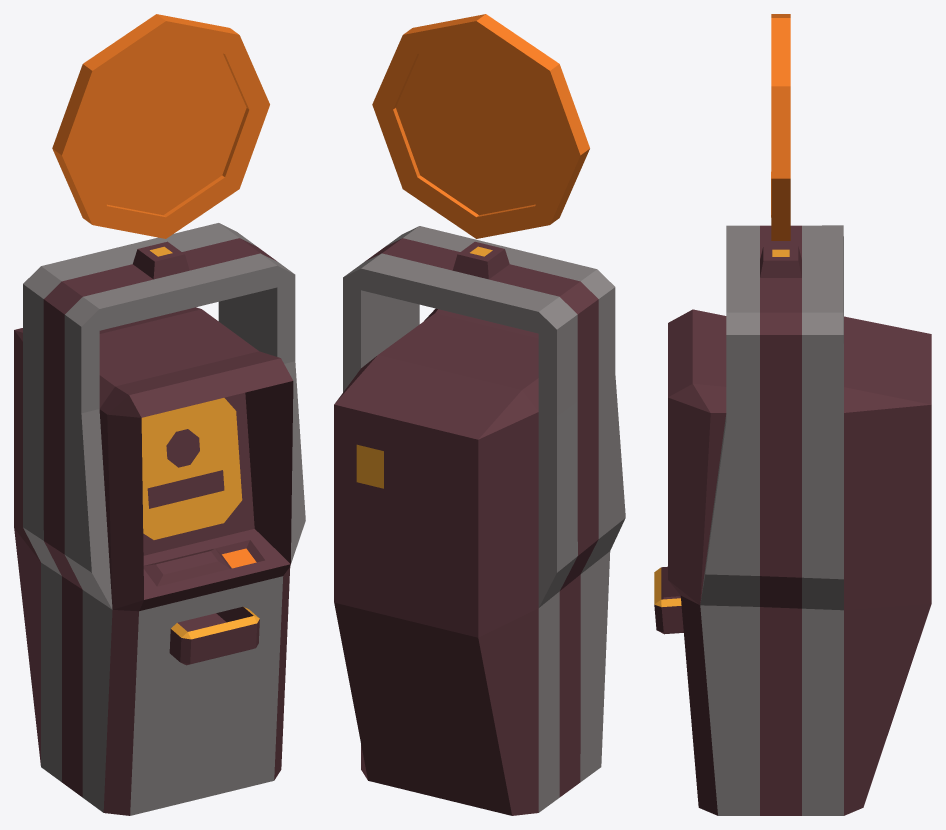
The model's file is scifi-atm-machine.fbx.
3 renders of one model, left to right at view 1: azimuth 30°, elevation 25°; view 2: azimuth 150°, elevation 25°; view 3: azimuth 270°, elevation 25°, orthographic.
Parts seen in each view (by area): view 1: scifi-atm-machine; view 2: scifi-atm-machine; view 3: scifi-atm-machine.
Part boxes in pixels (x1=…): scifi-atm-machine: x1=14, y1=14, x2=305, y2=815; scifi-atm-machine: x1=334, y1=14, x2=625, y2=815; scifi-atm-machine: x1=654, y1=14, x2=931, y2=815.
Size of the model in its own units: 1.03 by 3.47 by 1.16.
